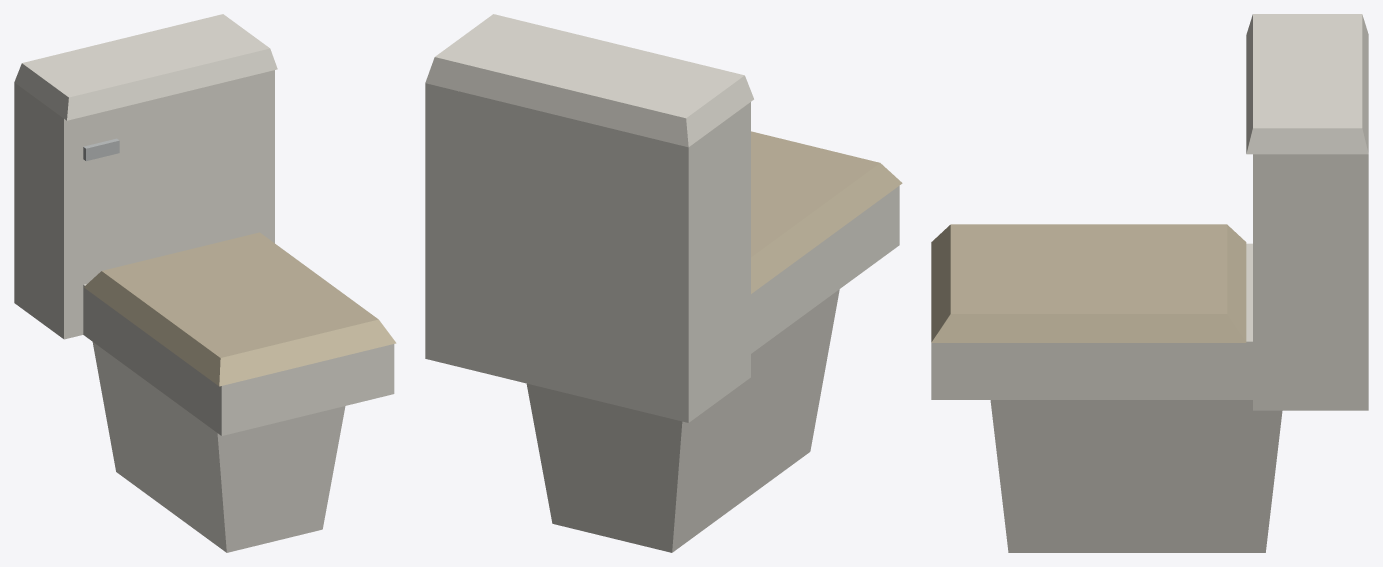
File: toilet.glb
3 renders of one model, left to right at view 1: azimuth 30°, elevation 25°; view 2: azimuth 150°, elevation 25°; view 3: azimuth 270°, elevation 25°, orthographic. The views are drawn at different scales.
Parts seen in each view (by area): view 1: toilet; view 2: toilet; view 3: toilet.
Boxes of the visible parts, <box> form: toilet: <box>14,14,396,552</box>; toilet: <box>425,14,902,552</box>; toilet: <box>931,14,1368,552</box>.
Size of the model in its own units: 0.44 by 0.78 by 0.68.
